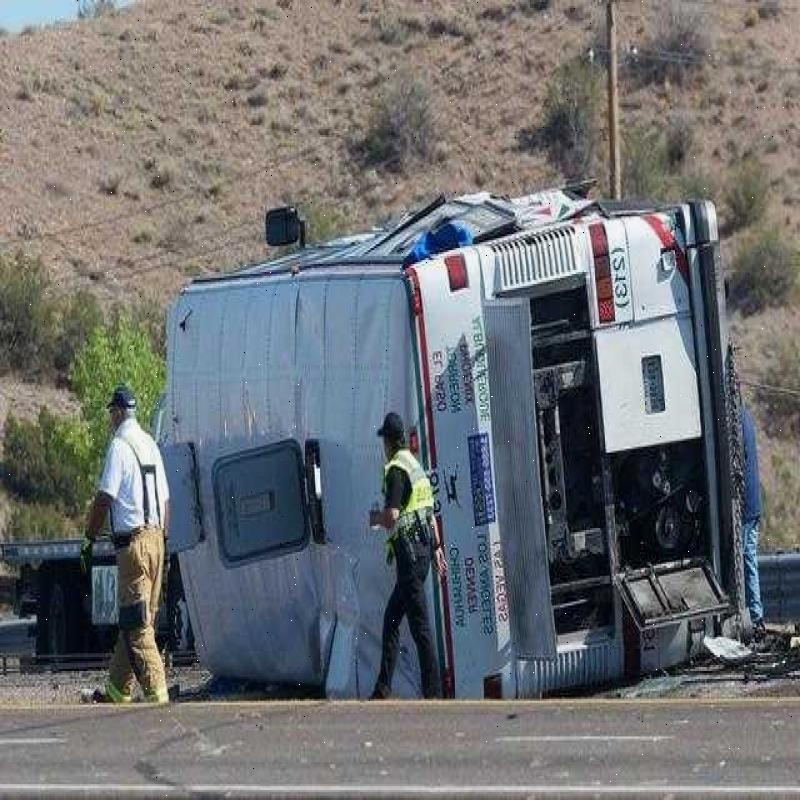bus: (210, 174, 714, 701)
